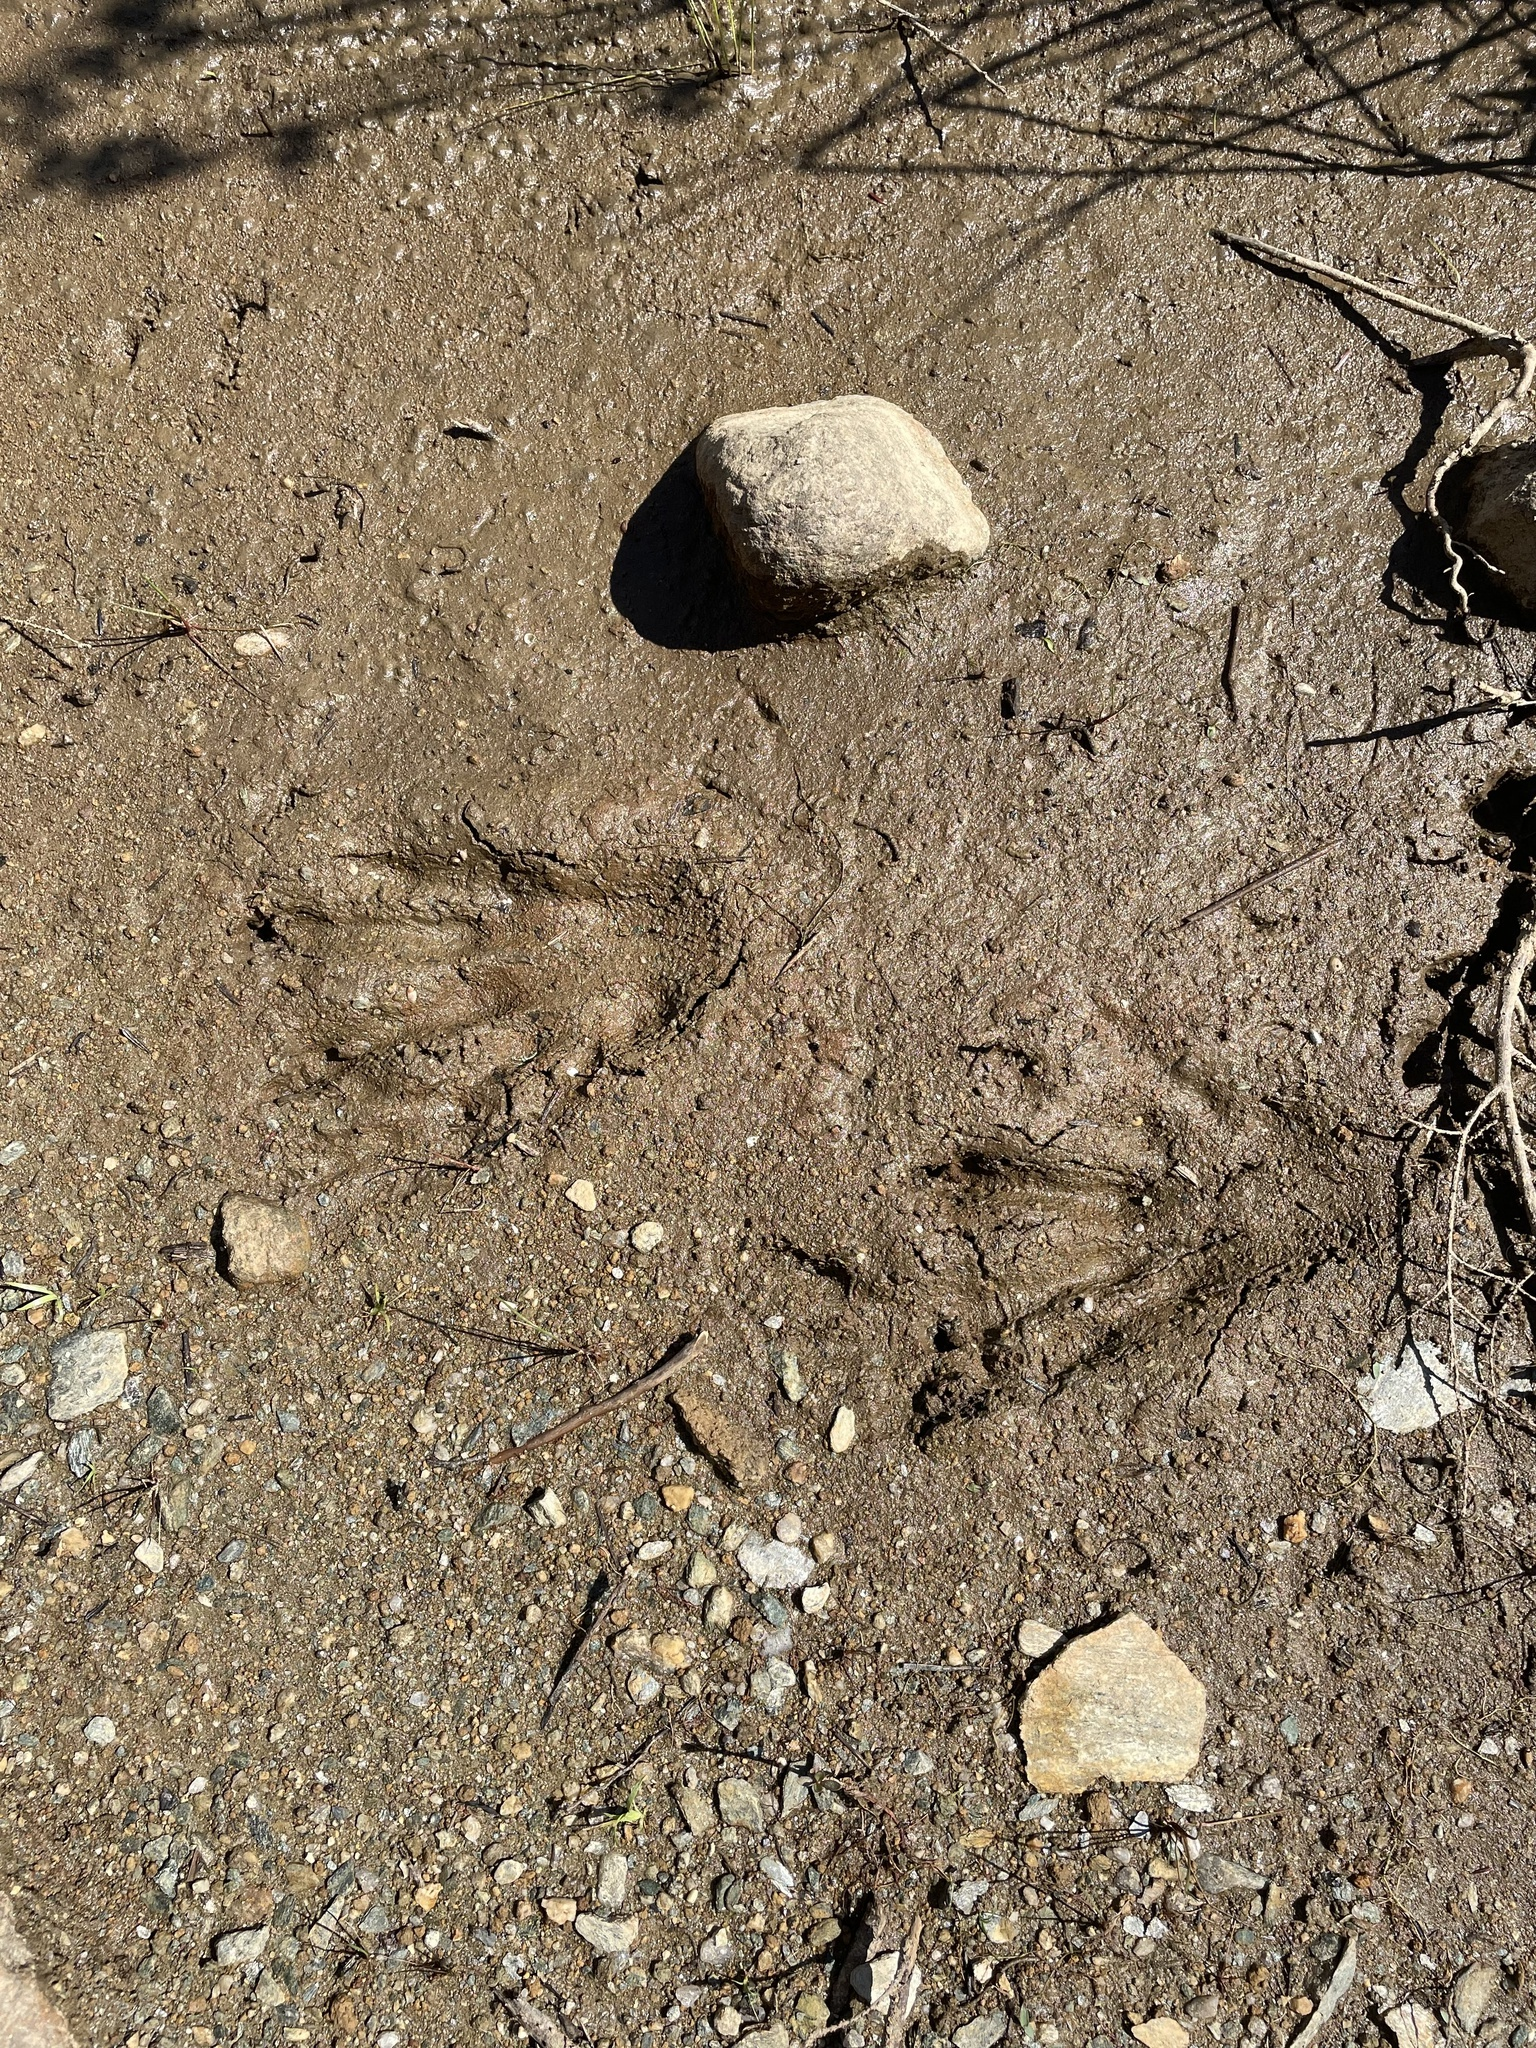beaver: (808, 1034, 1418, 1524), (179, 798, 797, 1274)
